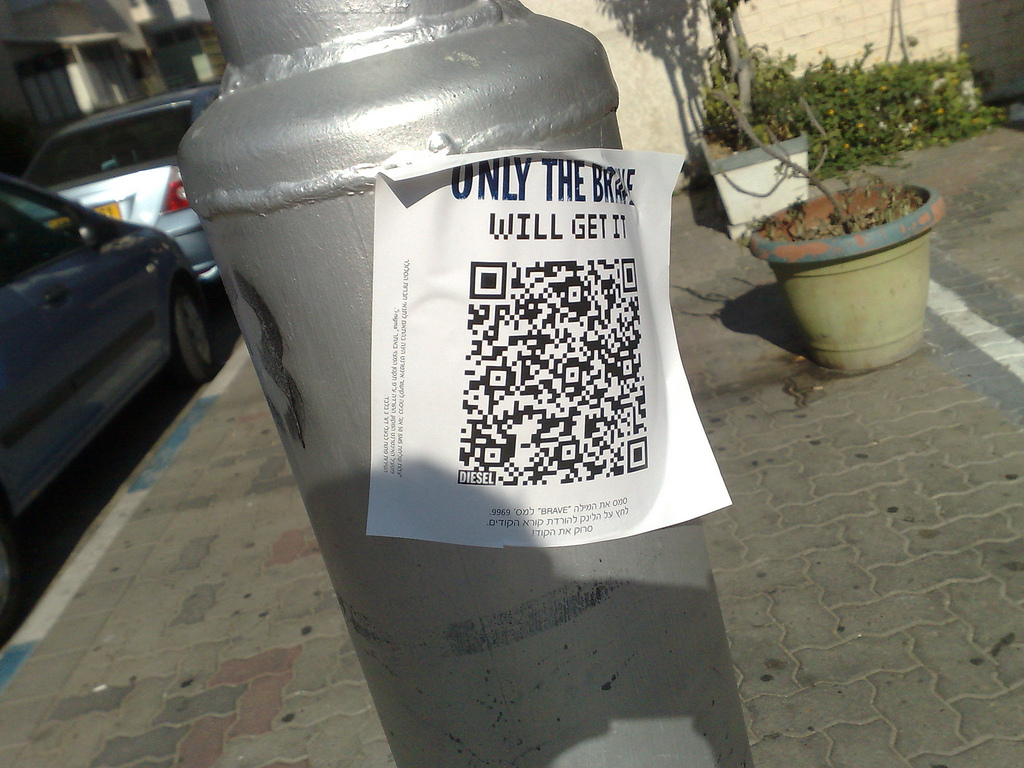QR-CODE: (459, 259, 647, 485)
